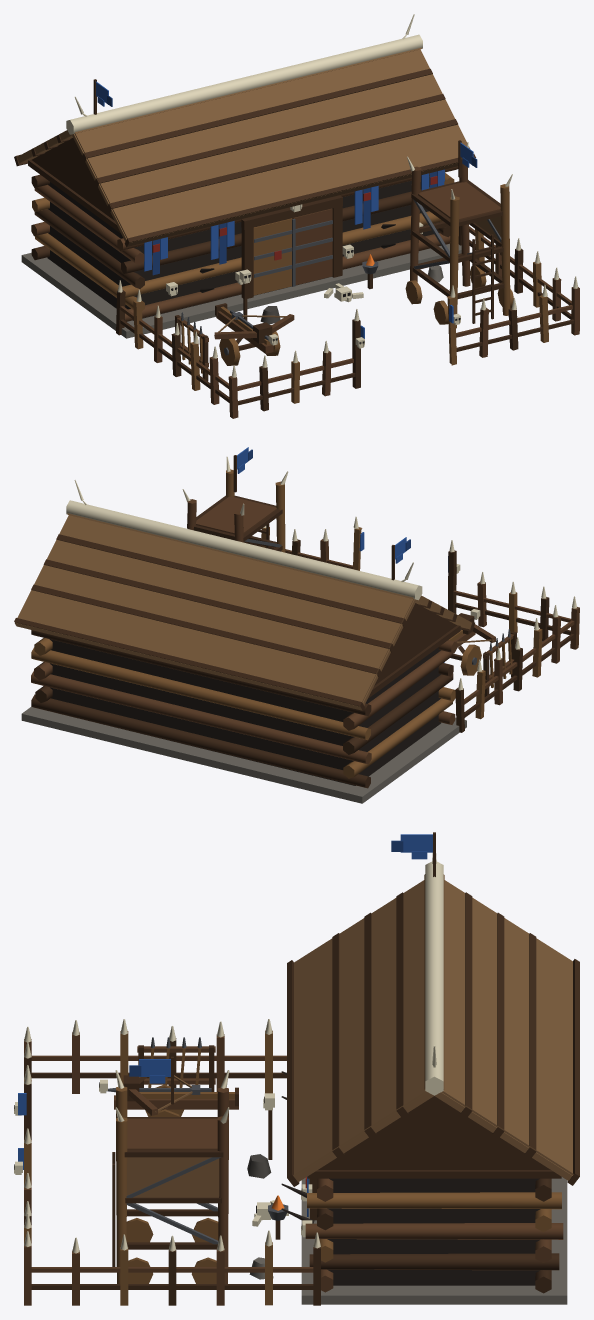
Rendered from orc-siege-workshop.glb.
3 views of the same model, one above another, from view 1: azimuth 30°, elevation 25°; view 2: azimuth 150°, elevation 25°; view 3: azimuth 270°, elevation 25° (orthographic). The views are drawn at different scales.
Parts seen in each view (by area): view 1: orc-siege-workshop; view 2: orc-siege-workshop; view 3: orc-siege-workshop.
Part boxes in pixels (left/top/right/bottom): orc-siege-workshop: left=14, top=14, right=579, bottom=418; orc-siege-workshop: left=14, top=447, right=579, bottom=803; orc-siege-workshop: left=14, top=832, right=579, bottom=1305.
Size of the model in its own units: 13.11 by 7.72 by 14.48.
1 material, 1 textured.
